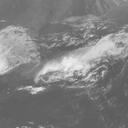cyclone: (43, 34, 100, 80)
